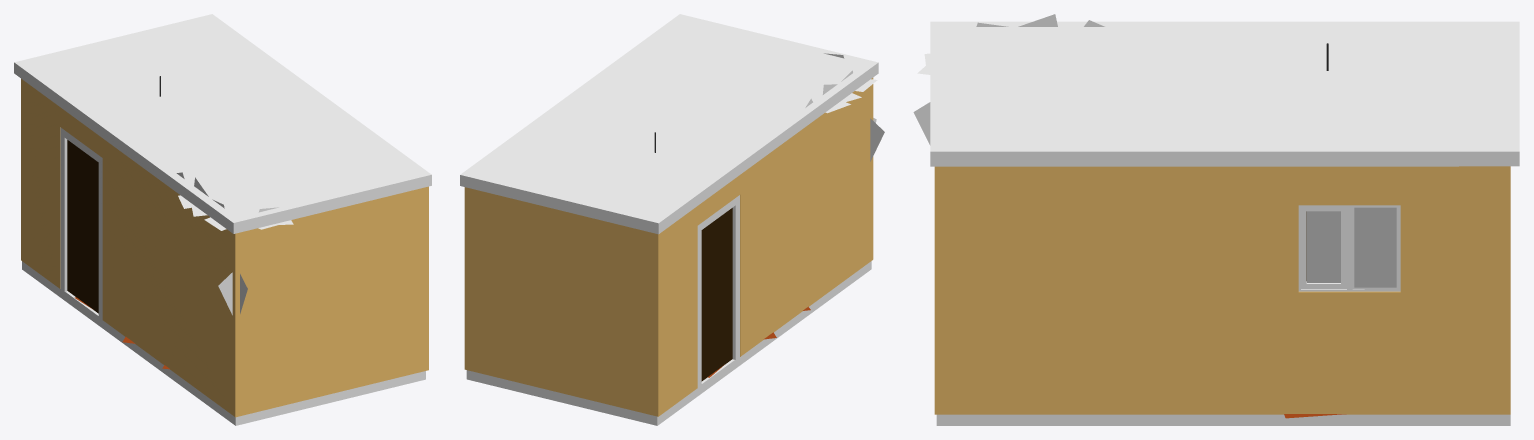
The model's file is FloorPlan26_physics.fbx.
3 views of the same model, side by side, from view 1: azimuth 30°, elevation 25°; view 2: azimuth 150°, elevation 25°; view 3: azimuth 270°, elevation 25° (orthographic). The views are drawn at different scales.
Parts seen in each view (by area): view 1: Room.025, Ceiling.001, Door, Floor.001, DoorFrame, Cube.174; view 2: Room.025, Ceiling.001, Door, Floor.001, DoorFrame, Cube.174; view 3: Room.025, Ceiling.001, Floor.001, WindowPane, WindowFrame, Cube.174.
Part boxes in pixels (bbox=[...]): Room.025: bbox=[21, 78, 428, 417]; Ceiling.001: bbox=[14, 14, 431, 233]; Door: bbox=[67, 140, 98, 313]; Floor.001: bbox=[22, 261, 425, 425]; DoorFrame: bbox=[60, 127, 102, 319]; Cube.174: bbox=[176, 172, 293, 315]; Room.025: bbox=[464, 78, 873, 416]; Ceiling.001: bbox=[460, 14, 878, 234]; Door: bbox=[701, 208, 732, 381]; Floor.001: bbox=[466, 261, 871, 425]; DoorFrame: bbox=[697, 195, 739, 387]; Cube.174: bbox=[805, 53, 884, 161]; Room.025: bbox=[934, 166, 1510, 414]; Ceiling.001: bbox=[930, 21, 1519, 166]; Floor.001: bbox=[936, 414, 1510, 425]; WindowPane: bbox=[1307, 207, 1396, 287]; WindowFrame: bbox=[1298, 205, 1400, 291]; Cube.174: bbox=[913, 14, 1104, 145].
Size of the model in its own units: 292 by 294 by 530.
